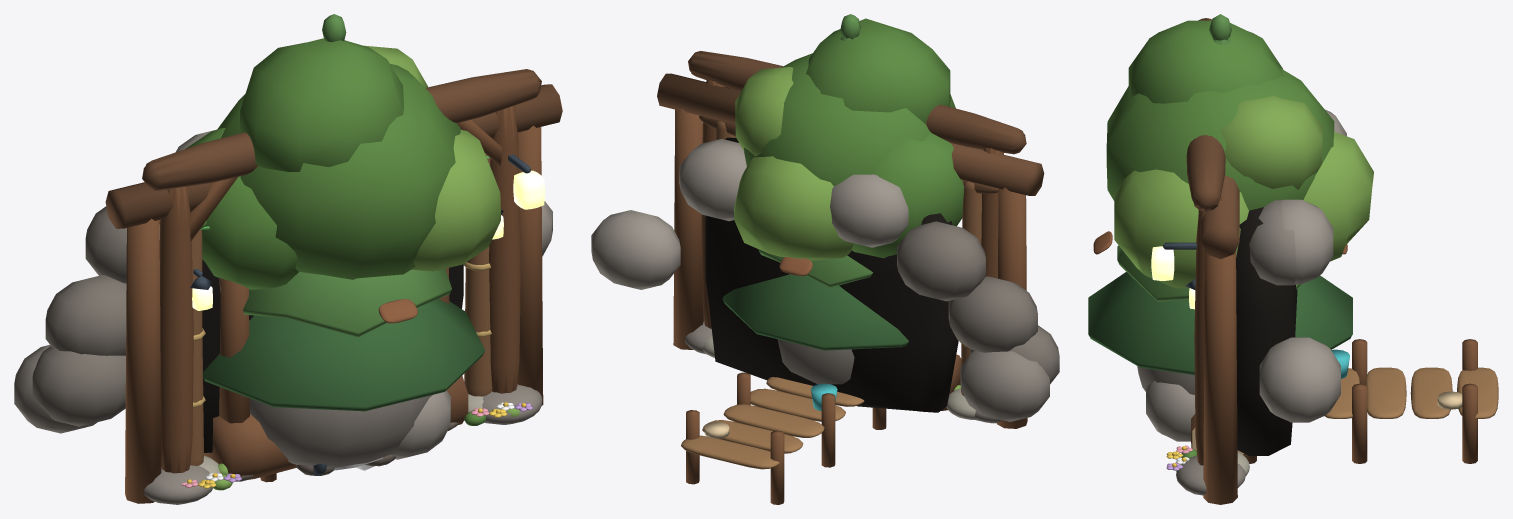
The model's file is granja_monte.glb.
The picture shows the model from 3 angles, left to right: view 1: azimuth 30°, elevation 25°; view 2: azimuth 150°, elevation 25°; view 3: azimuth 270°, elevation 25°; orthographic projection. The views are drawn at different scales.
Parts seen in each view (by area): view 1: copa roble 0, piso pino 0, puntal -1, puntal túnel -1, roca boca 2, piso pino 1, travesaño mina, roca grande, copa roble 1, piedra puntal -1, marco tablero, viga túnel (+8 smaller); view 2: copa roble 0, hueco mina, roca boca 1, copa roble 1, roca boca 2, piso pino 0, puntal túnel -1, tabla muelle 0, piedra puntal -1, viga túnel, travesaño mina, pilote -0.550 (+7 smaller); view 3: copa roble 0, copa roble 1, piso pino 0, roca boca 1, hueco mina, puntal túnel -1, tabla muelle 0, piedra puntal -1, pilote -0.550, travesaño mina, roca grande b, puntal -1 (+4 smaller).
Boxes of the visible parts, <box> form: copa roble 0: <box>185,38,460,289</box>; piso pino 0: <box>203,299,485,411</box>; puntal -1: <box>159,105,520,473</box>; puntal túnel -1: <box>125,125,543,503</box>; roca boca 2: <box>32,206,159,426</box>; piso pino 1: <box>243,14,451,337</box>; travesaño mina: <box>142,69,541,190</box>; roca grande: <box>249,395,432,468</box>; copa roble 1: <box>364,45,500,271</box>; piedra puntal -1: <box>14,344,542,504</box>; marco tablero: <box>190,155,492,465</box>; viga túnel: <box>105,84,562,228</box>; copa roble 0: <box>744,18,964,258</box>; hueco mina: <box>705,137,958,412</box>; roca boca 1: <box>591,141,908,289</box>; copa roble 1: <box>734,67,853,260</box>; roca boca 2: <box>897,221,1059,384</box>; piso pino 0: <box>722,274,908,350</box>; puntal túnel -1: <box>673,108,1027,428</box>; tabla muelle 0: <box>681,377,864,469</box>; piedra puntal -1: <box>685,139,1049,423</box>; viga túnel: <box>657,73,1044,195</box>; travesaño mina: <box>688,51,1026,154</box>; pilote -0.550: <box>686,372,886,504</box>; copa roble 0: <box>1106,20,1334,210</box>; copa roble 1: <box>1114,95,1373,288</box>; piso pino 0: <box>1088,272,1352,374</box>; roca boca 1: <box>1259,109,1346,422</box>; hueco mina: <box>1236,207,1297,455</box>; puntal túnel -1: <box>1203,250,1237,504</box>; tabla muelle 0: <box>1324,367,1498,418</box>; piedra puntal -1: <box>1176,200,1296,495</box>; pilote -0.550: <box>1243,339,1477,463</box>; travesaño mina: <box>1186,18,1225,211</box>; roca grande b: <box>1146,381,1195,441</box>; puntal -1: <box>1194,197,1221,465</box>.
Bounding box in the file's own units: 5.82 × 4.88 × 4.28.
